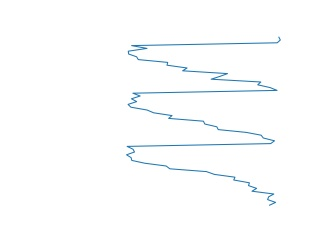distributaryMouthBar: (125, 37, 283, 206)
